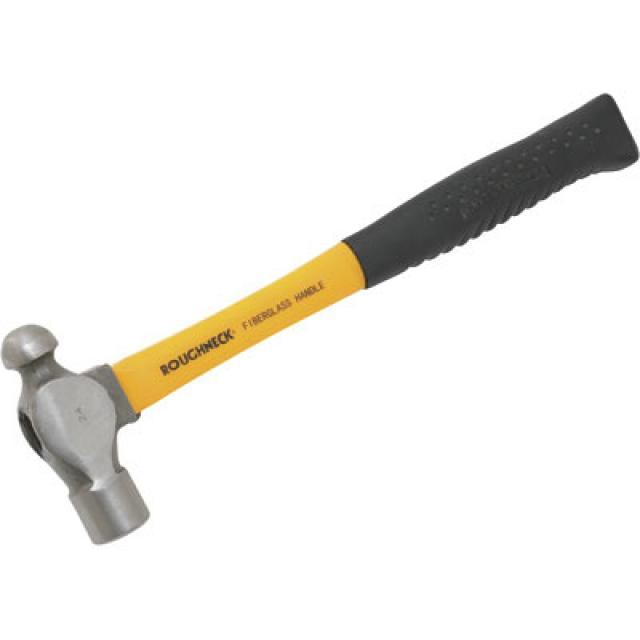hammer: (0, 87, 640, 560)
